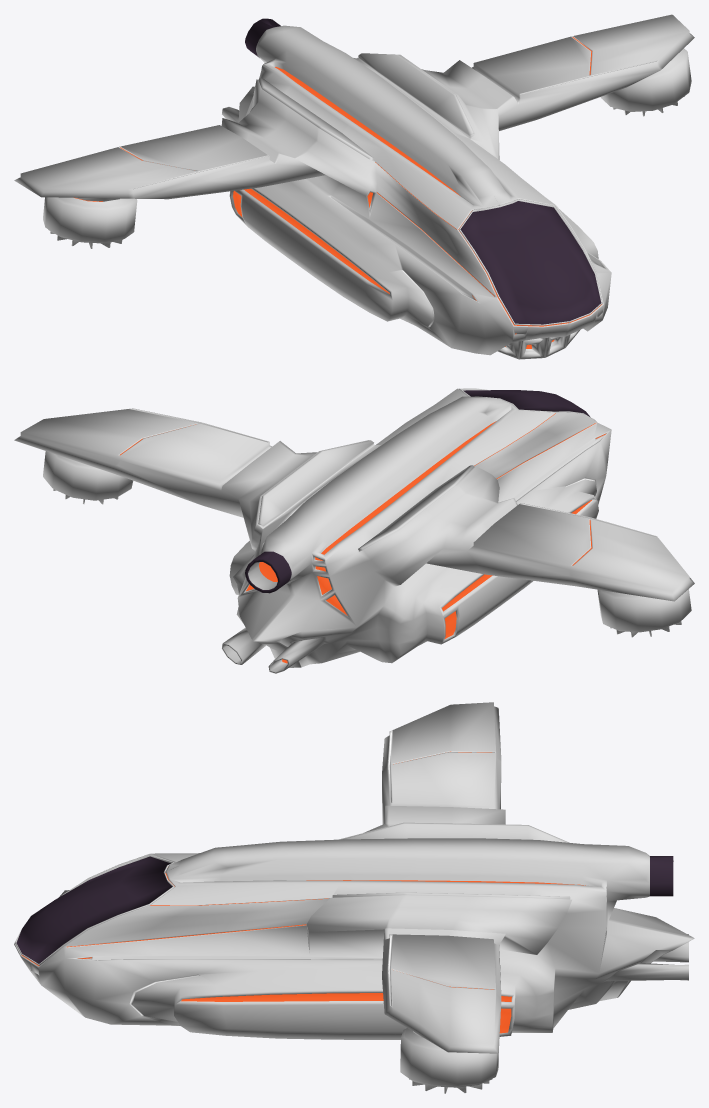
3 views of the same model, one above another, from view 1: azimuth 30°, elevation 25°; view 2: azimuth 150°, elevation 25°; view 3: azimuth 270°, elevation 25° (orthographic). The views are drawn at different scales.
Visible parts, largest first — view 1: Scifi Scoutcraft; view 2: Scifi Scoutcraft; view 3: Scifi Scoutcraft.
Part boxes in pixels (x1,y1,x2,y2): Scifi Scoutcraft: (14,14,694,359); Scifi Scoutcraft: (14,388,694,673); Scifi Scoutcraft: (14,702,694,1093).
Size of the model in its own units: 18.74 by 4.07 by 15.59.
